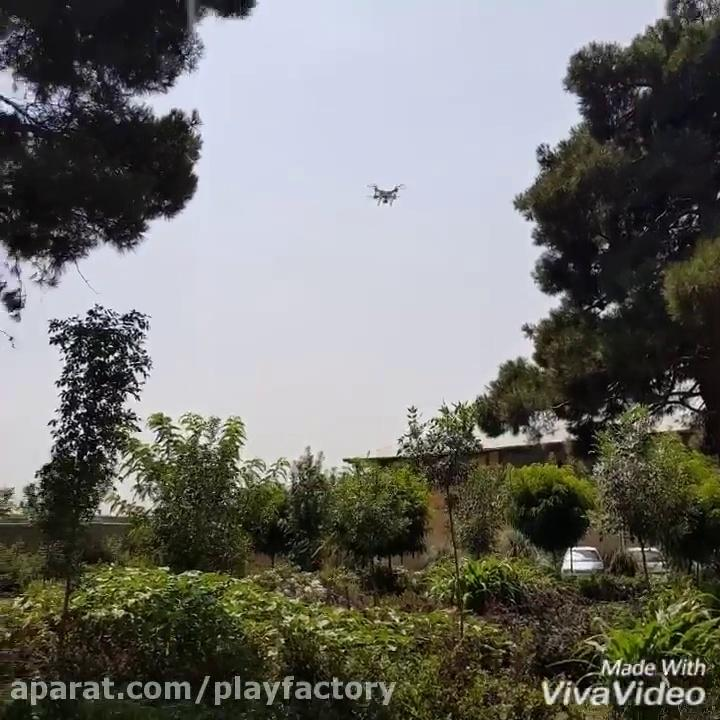drone: (366, 176, 407, 209)
